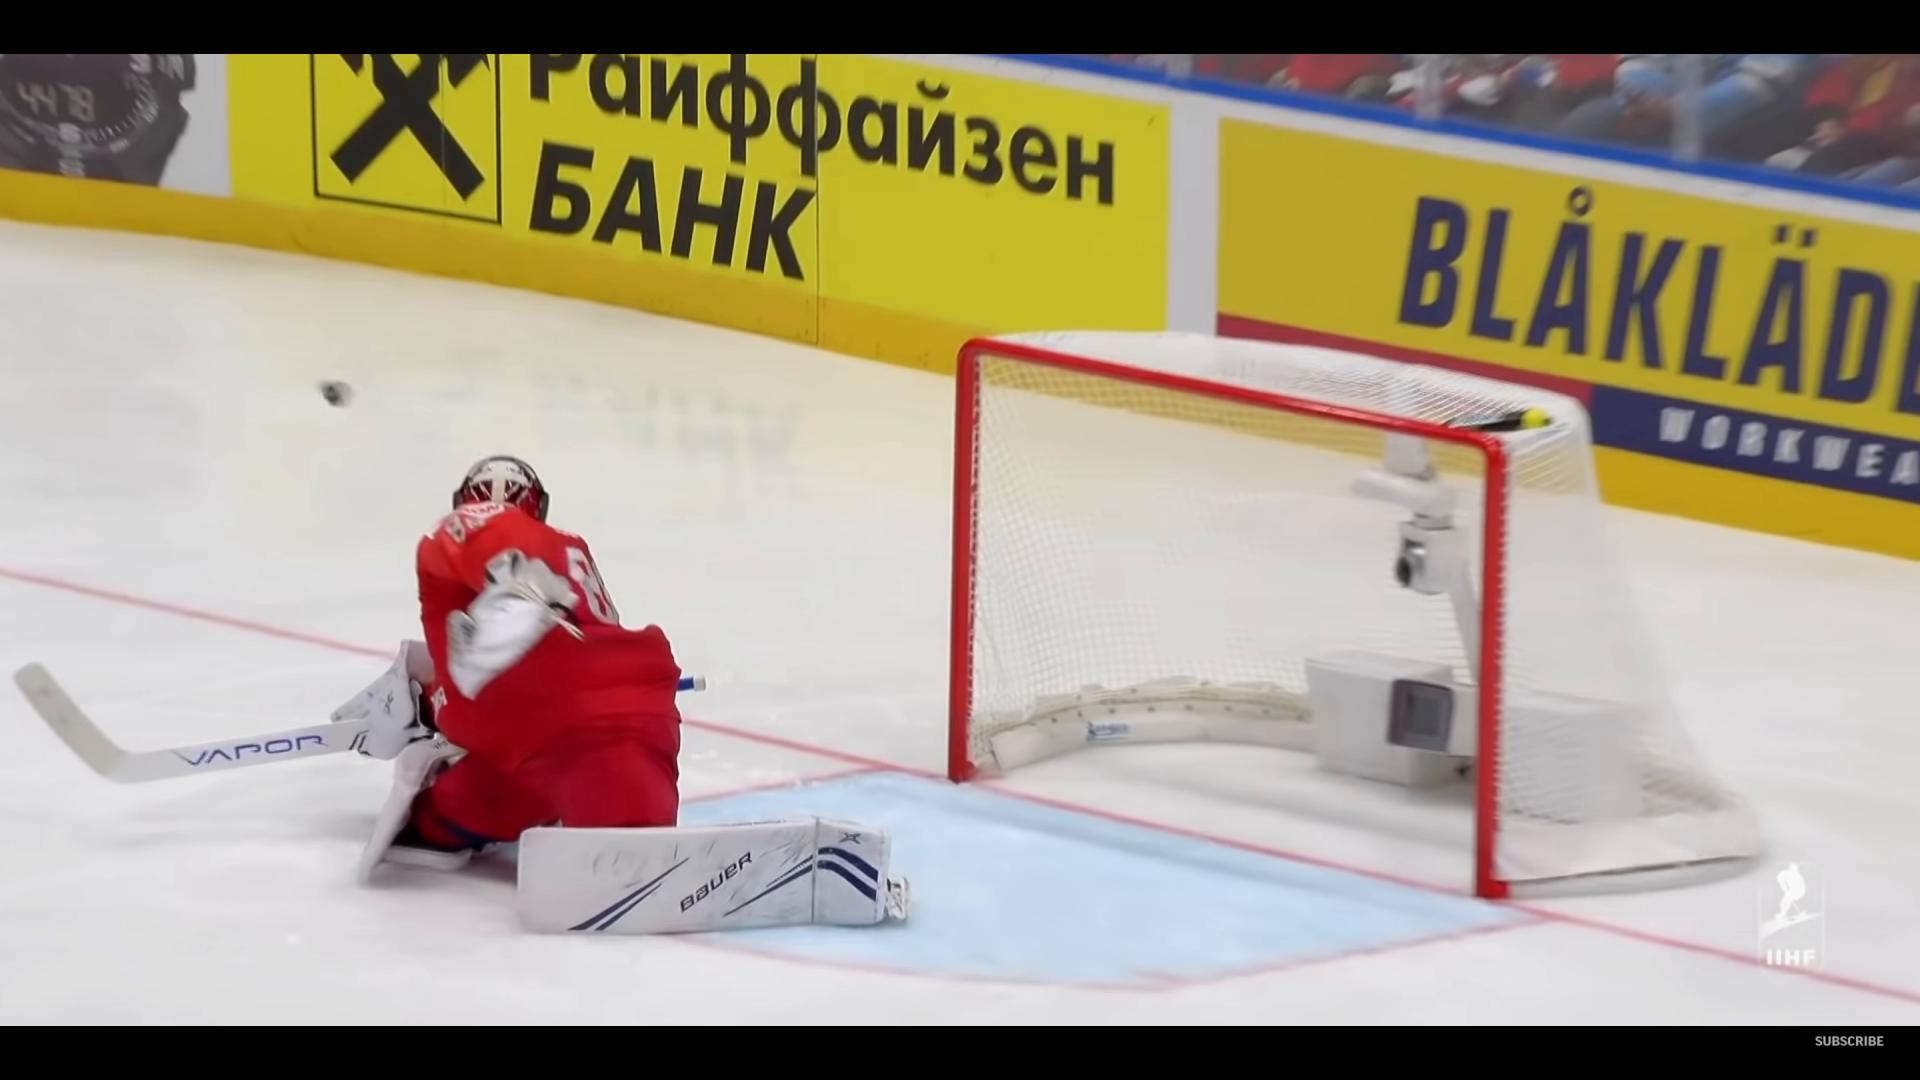puck: (318, 381, 348, 407)
